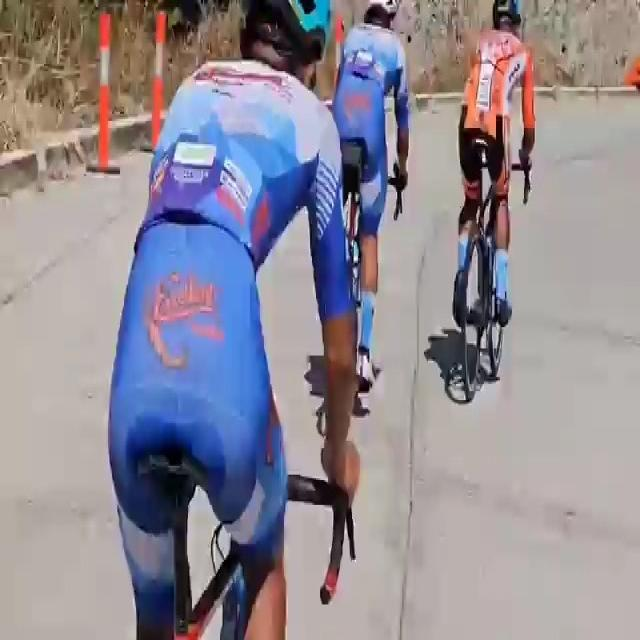bike: (107, 0, 359, 640), (444, 0, 540, 413), (332, 0, 414, 408)
